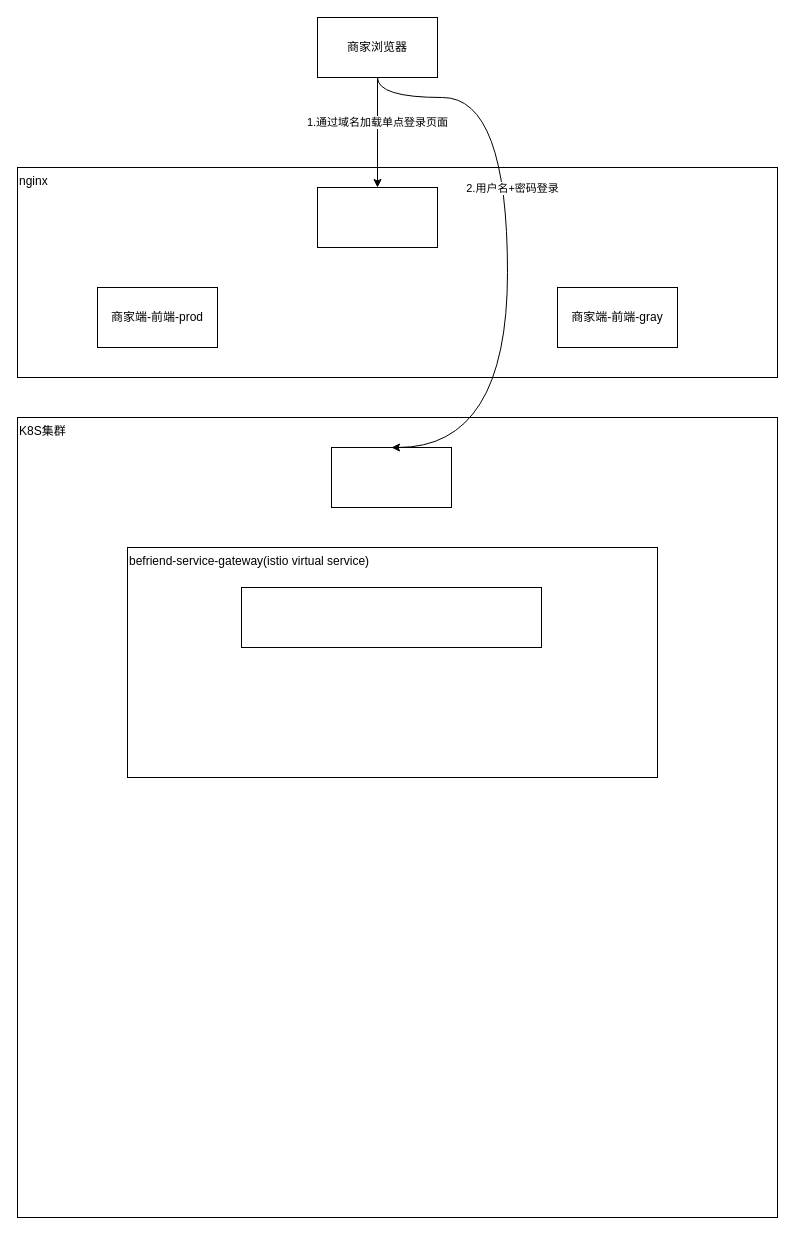
The diagram is 795 pixels wide and 1235 high, and some of its shapes have lost their labels. Each missing label, with the centre of its shape:
"befriend-service-gateway(k8s service)" belongs at [391,617].
"Istio gateway" belongs at [391,477].
"单点登录页" belongs at [377,217].
